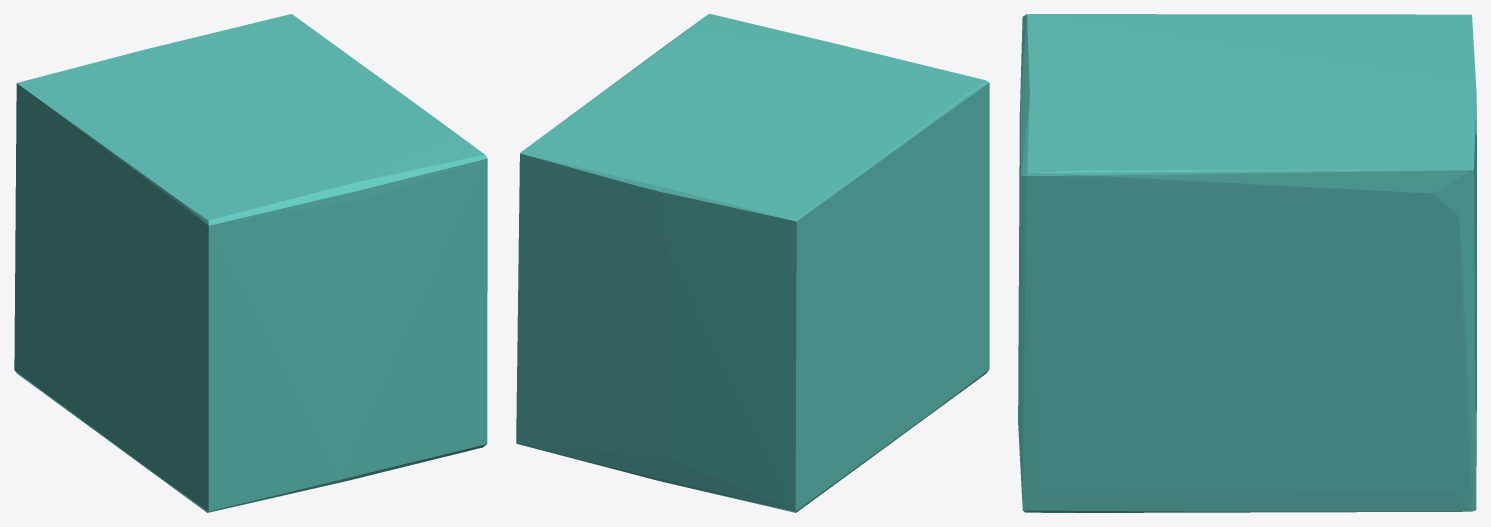
File: box_multiDepth_a03.glb
3 renders of one model, left to right at view 1: azimuth 30°, elevation 25°; view 2: azimuth 150°, elevation 25°; view 3: azimuth 270°, elevation 25°, orthographic. The views are drawn at different scales.
Visible parts, largest first — view 1: geometry_0; view 2: geometry_0; view 3: geometry_0.
Boxes of the visible parts, box(x1,y1,x2,y2) form: geometry_0: box(14, 14, 487, 512); geometry_0: box(516, 14, 989, 512); geometry_0: box(1018, 14, 1476, 512).
Bounding box in the file's own units: 0.3949 × 0.3977 × 0.4799.
